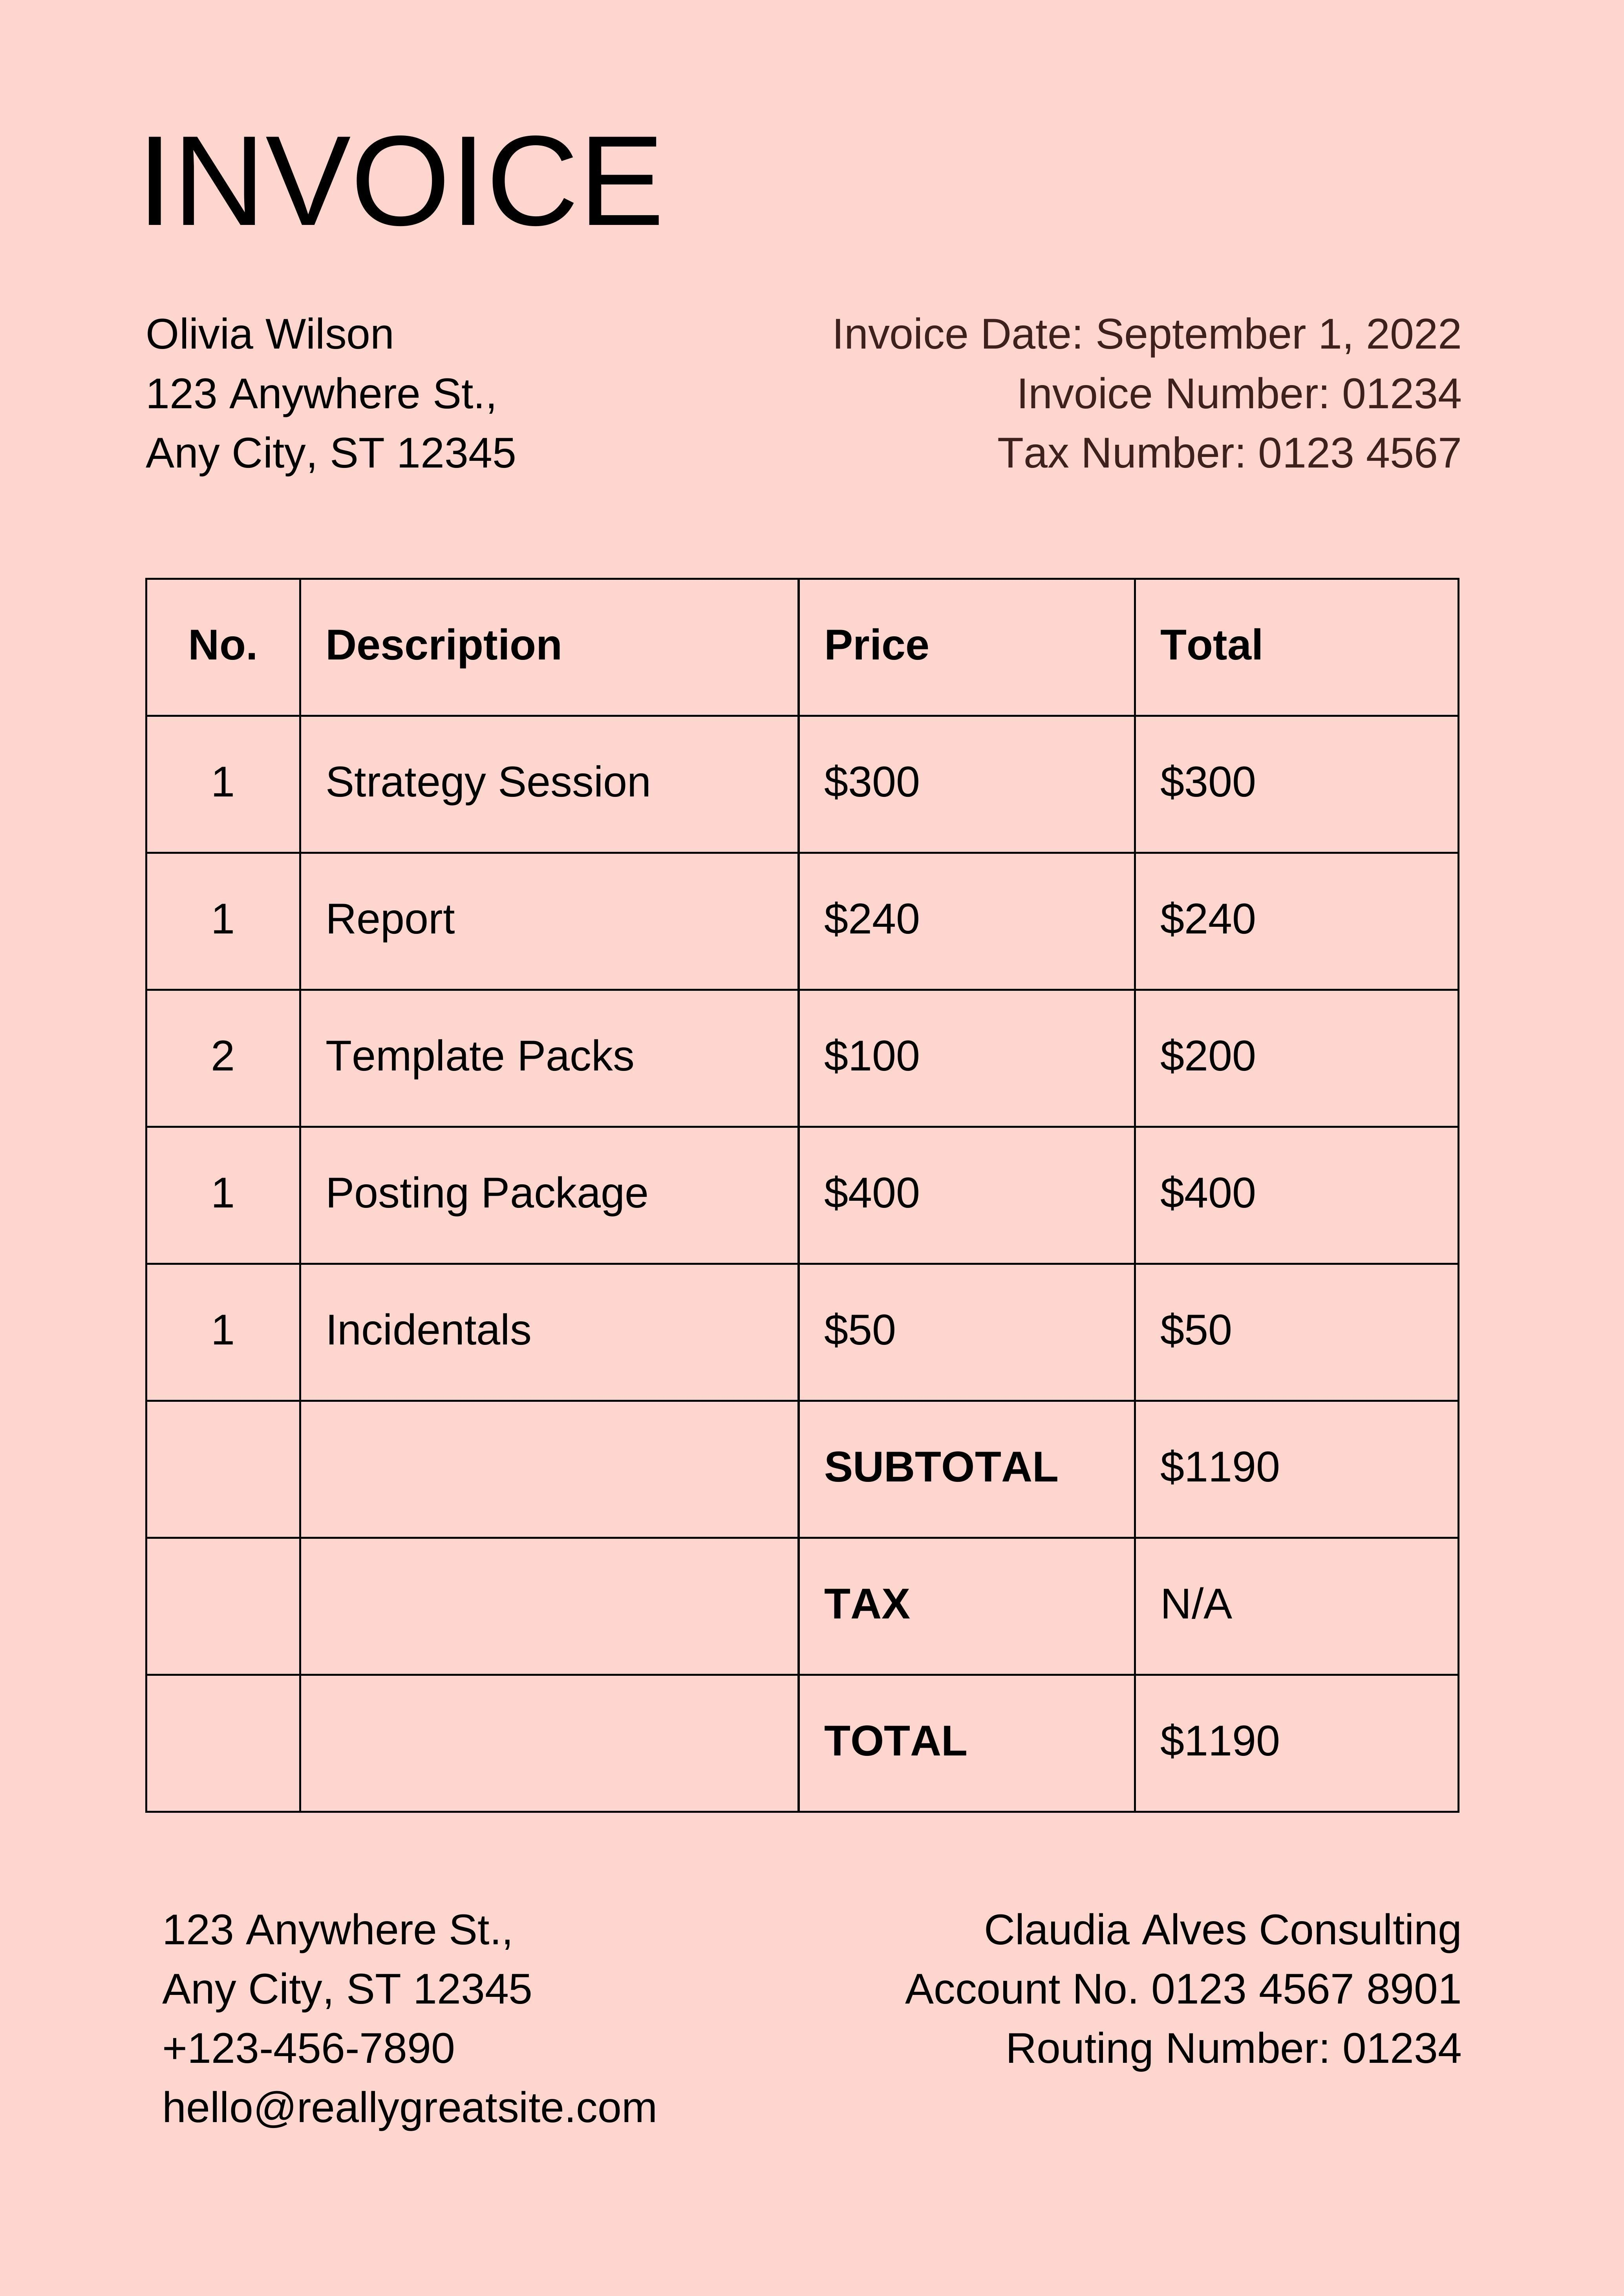ROI: (149, 585, 1466, 1379), (805, 1395, 1450, 1802), (817, 299, 1482, 490), (137, 293, 518, 481), (896, 1964, 1478, 2083), (974, 1899, 1462, 1957)
